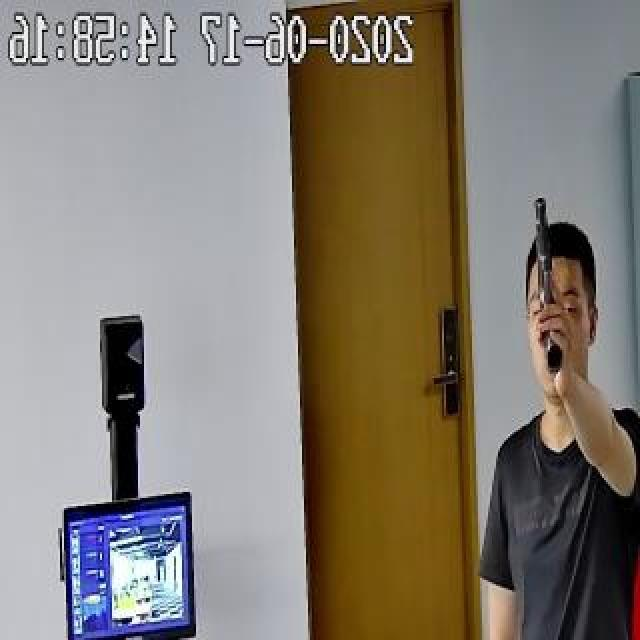Guns: (506, 178, 596, 388)
